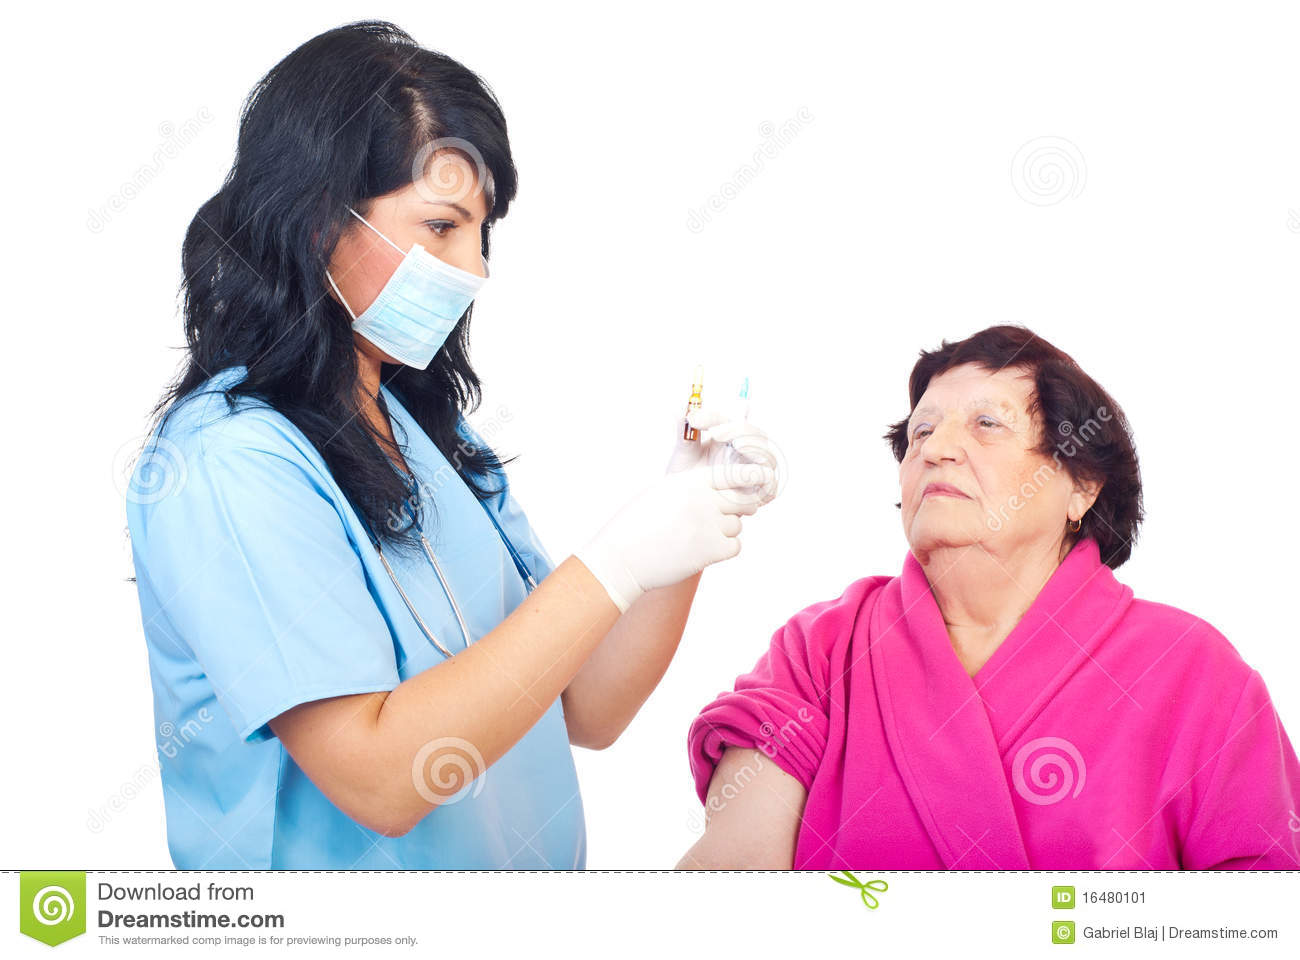mask: (347, 243, 490, 379)
